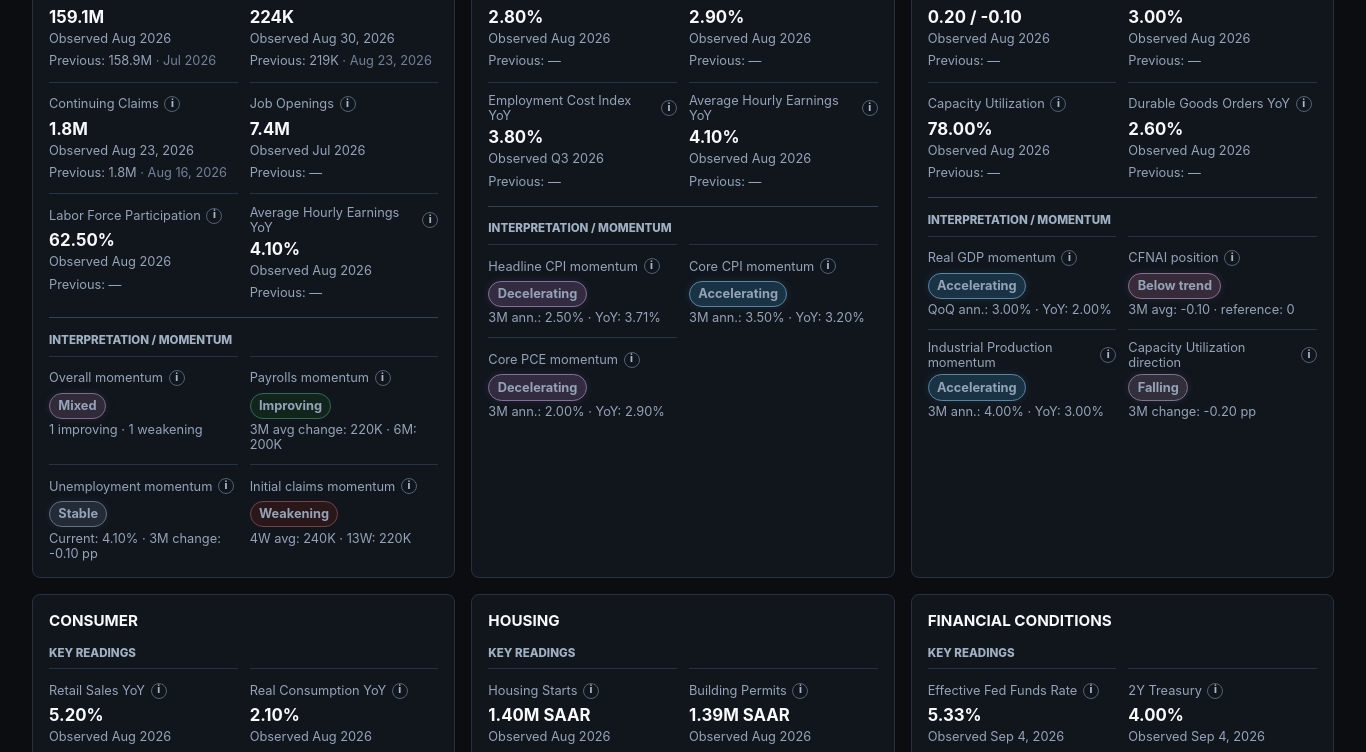
Test case: MacroLens detailed dashboard › metric information is keyboard and click accessible
(page scrolled)
Click the button named "About Overall momentum" at (177, 378), box [169,370,185,386]
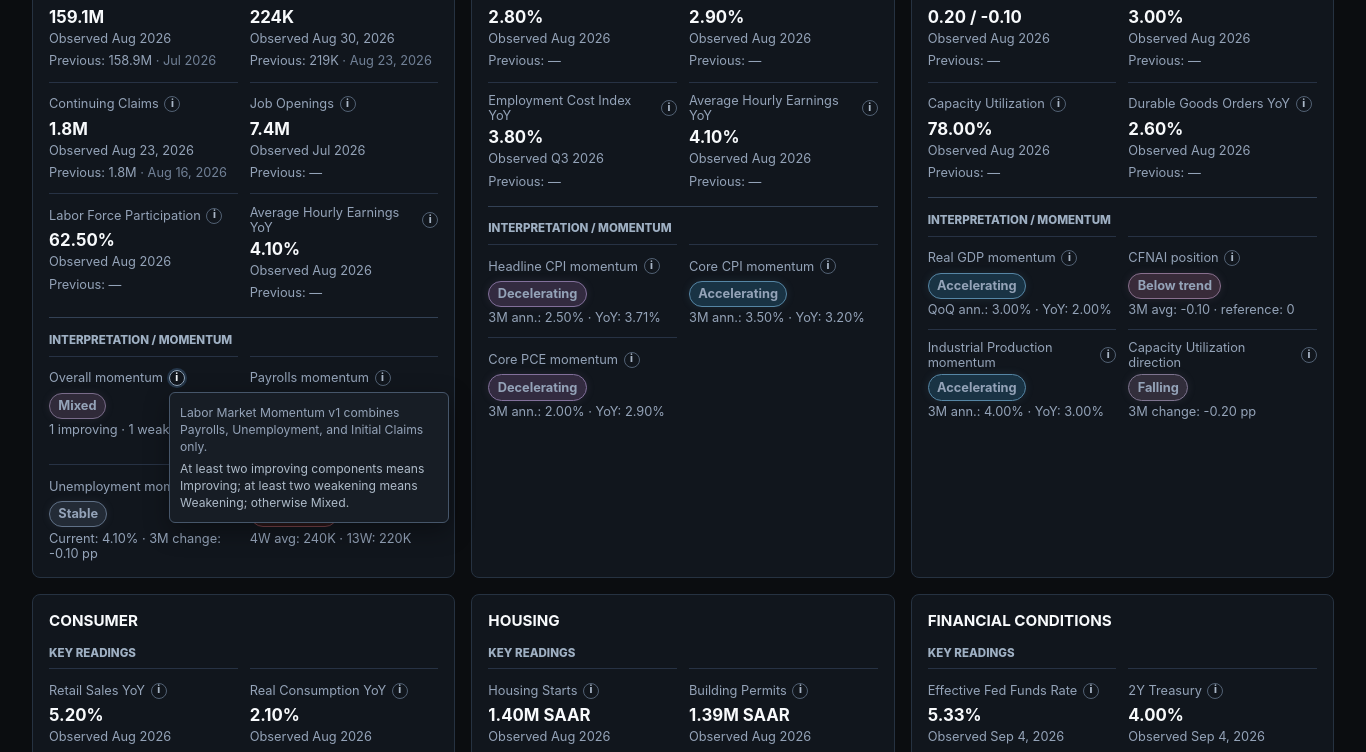
Check: the button named "About Overall momentum" is expanded
Check: the text "At least two improving components means Improving" is shown, box [180,461,424,510]
Press Escape in the button named "About Overall momentum", box [169,370,185,386]
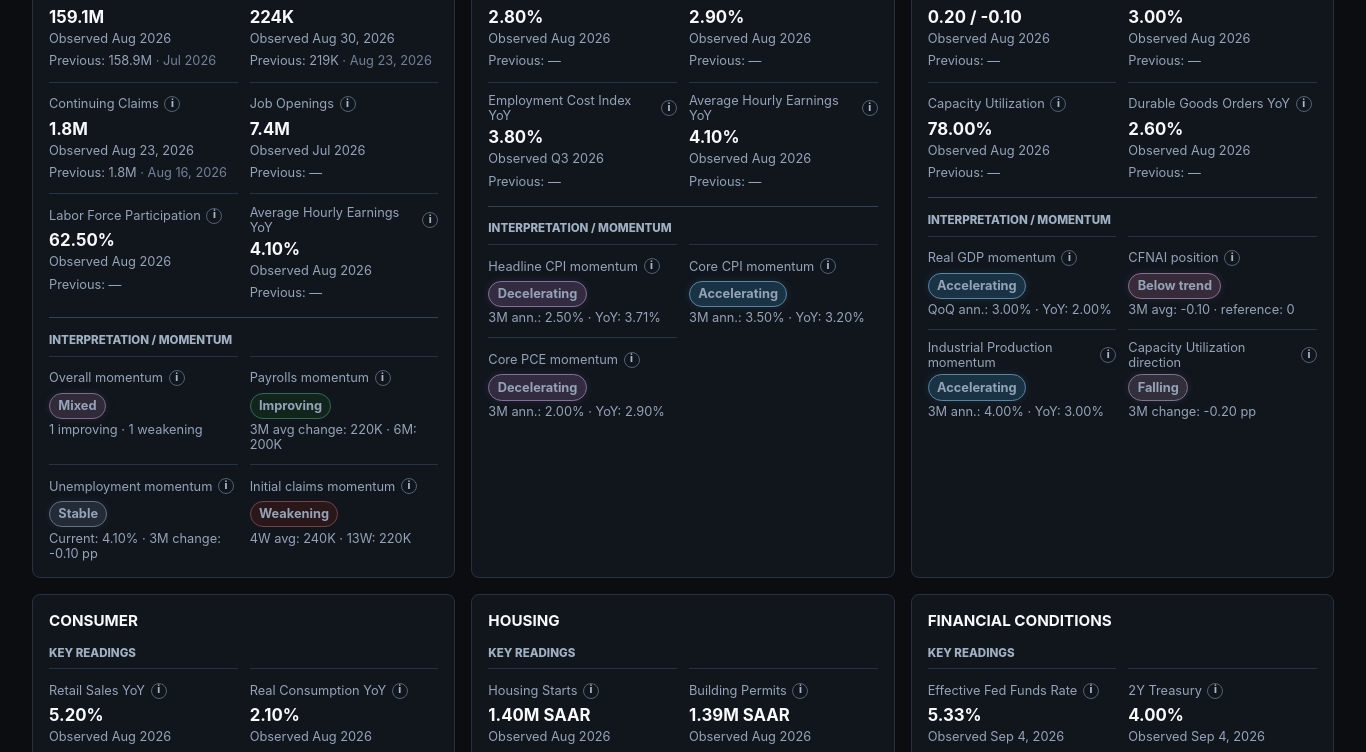
Check: the button named "About Overall momentum" is collapsed, box [169,370,185,386]
